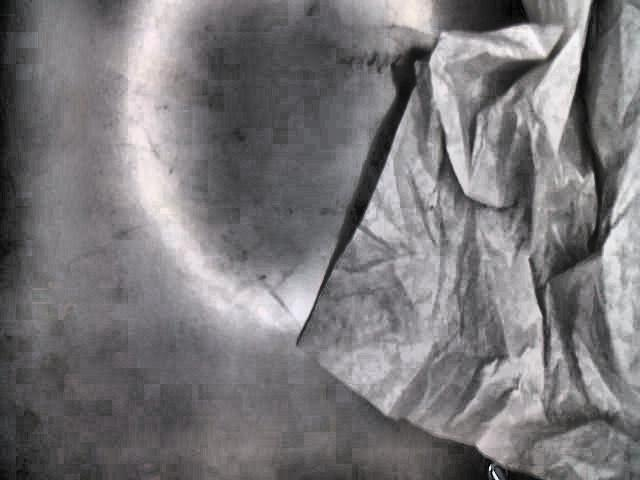Paper: (297, 0, 640, 480)
